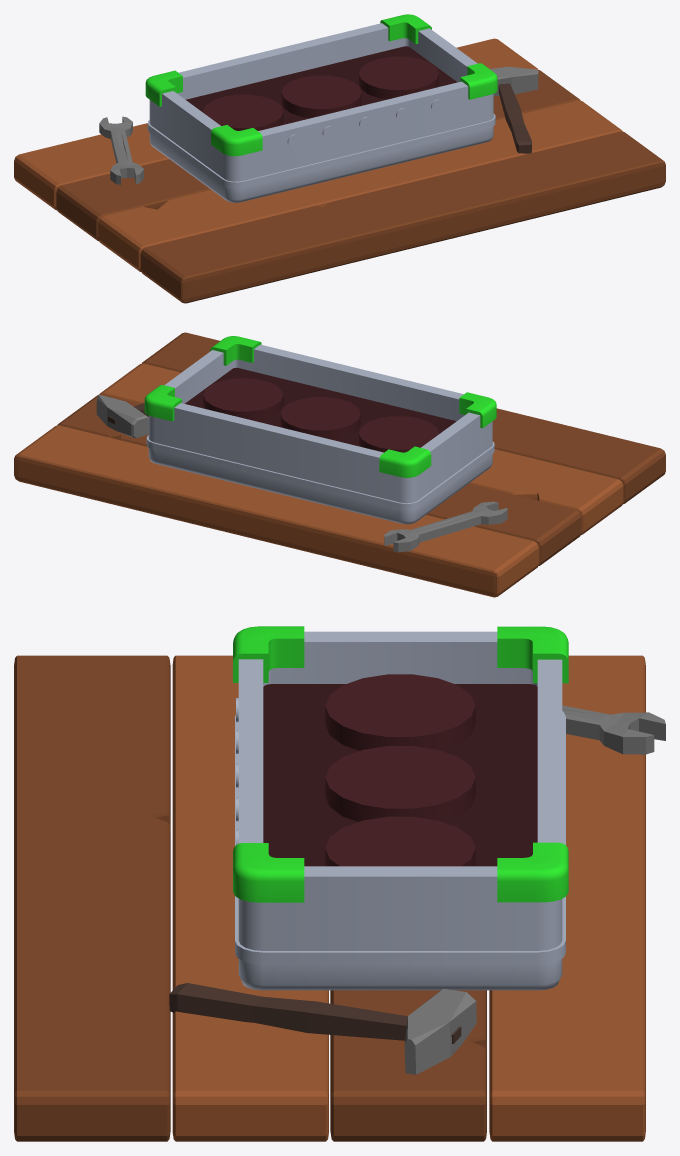
Rendered from Desk.fbx.
The picture shows the model from 3 angles, top to bottom: view 1: azimuth 30°, elevation 25°; view 2: azimuth 150°, elevation 25°; view 3: azimuth 270°, elevation 25°; orthographic projection. The views are drawn at different scales.
Visible parts, largest first — view 1: Cube, Cube.005, Cube.004, Cube.007, Cube.006, Cylinder, Cylinder.002, Cylinder.001, hammer, wrench; view 2: Cube, Cube.006, Cube.005, Cube.004, Cube.007, Cylinder.002, Cylinder, Cylinder.001, wrench, hammer; view 3: Cube, Cube.005, Cube.006, Cube.004, Cube.007, hammer, Cylinder.001, Cylinder, Cylinder.002, wrench.
Boxes of the visible parts, bbox=[...] form: Cube: bbox=[145, 14, 497, 202]; Cube.005: bbox=[140, 131, 665, 303]; Cube.004: bbox=[98, 100, 622, 271]; Cube.007: bbox=[56, 70, 580, 241]; Cube.006: bbox=[14, 38, 538, 210]; Cylinder: bbox=[281, 75, 361, 118]; Cylinder.002: bbox=[359, 56, 438, 99]; Cylinder.001: bbox=[203, 94, 283, 130]; hammer: bbox=[490, 66, 538, 153]; wrench: bbox=[99, 116, 143, 184]; Cube: bbox=[144, 336, 496, 524]; Cube.006: bbox=[14, 425, 539, 597]; Cube.005: bbox=[142, 332, 665, 504]; Cube.004: bbox=[99, 363, 623, 534]; Cube.007: bbox=[57, 394, 581, 565]; Cylinder.002: bbox=[203, 378, 283, 420]; Cylinder: bbox=[280, 397, 360, 439]; Cylinder.001: bbox=[359, 416, 438, 452]; wrench: bbox=[384, 501, 507, 552]; hammer: bbox=[96, 395, 148, 438]; Cube: bbox=[233, 626, 568, 990]; Cube.005: bbox=[14, 655, 170, 1141]; Cube.006: bbox=[489, 655, 645, 1141]; Cube.004: bbox=[172, 655, 328, 1141]; Cube.007: bbox=[330, 990, 486, 1141]; hammer: bbox=[169, 983, 476, 1074]; Cylinder.001: bbox=[325, 674, 475, 750]; Cylinder: bbox=[325, 746, 475, 821]; Cylinder.002: bbox=[325, 816, 475, 866]; wrench: bbox=[562, 705, 665, 754].
Bounding box in the file's own units: 1612 × 298 × 1001.
